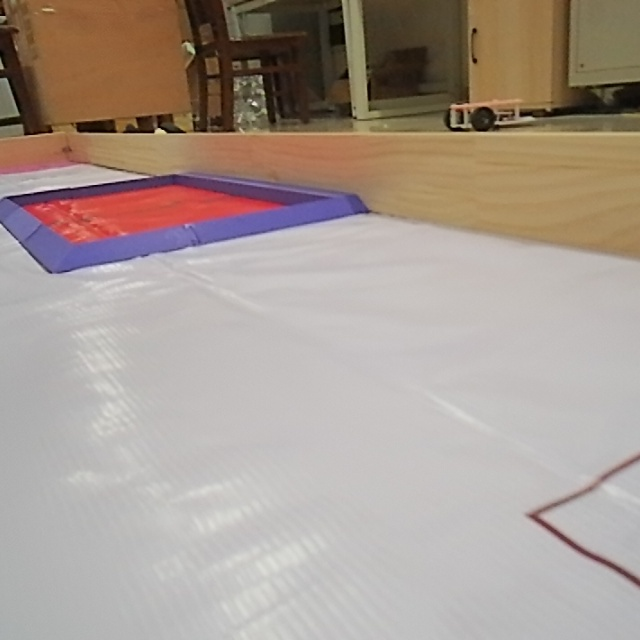zone1: (0, 164, 380, 282)
